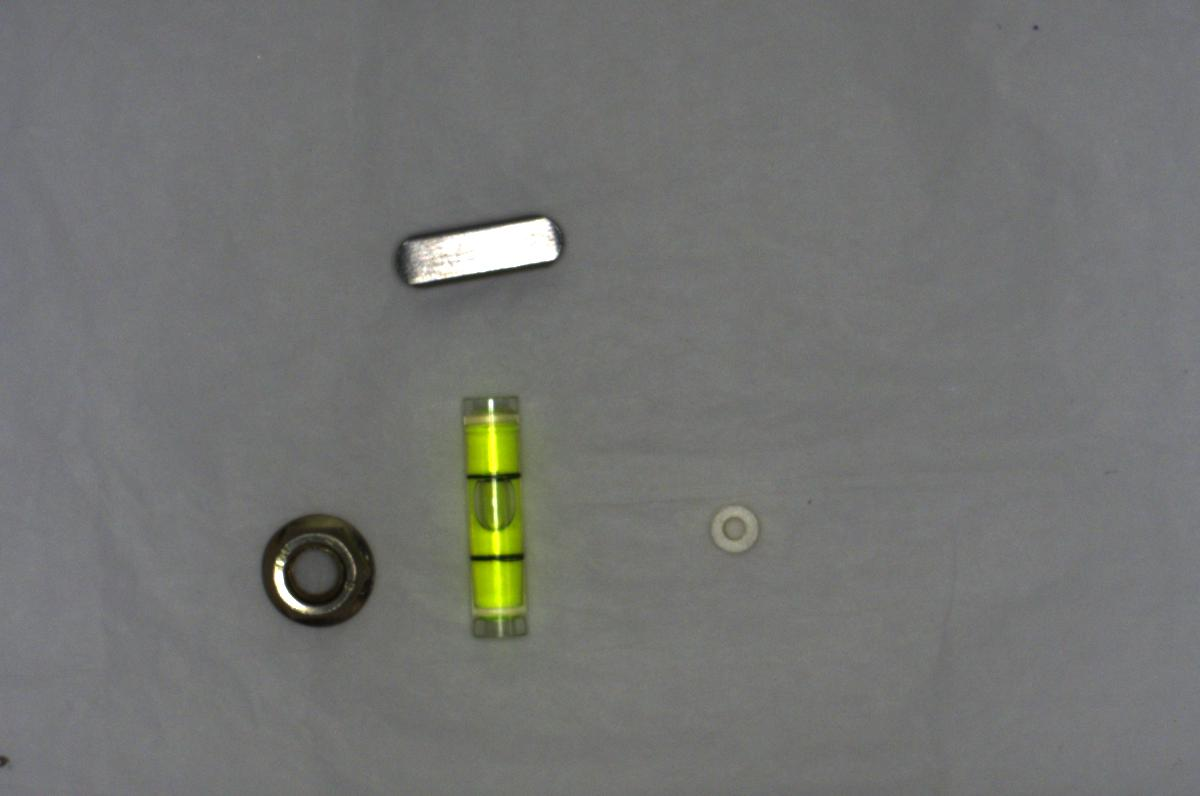Flange nut: (252, 510, 385, 638)
Horizontal bubble: (453, 383, 551, 648)
Keybar: (387, 202, 585, 287)
Plastic cushion pillar: (700, 495, 770, 562)
